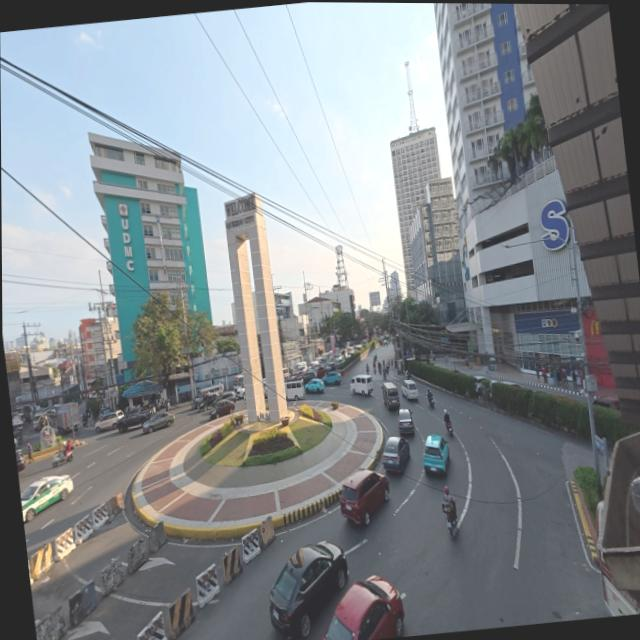Jeepneys: (192, 384, 243, 409)
car: (269, 542, 348, 637), (324, 576, 405, 639), (340, 469, 390, 525), (21, 474, 73, 522), (423, 434, 449, 474), (382, 437, 410, 471), (116, 408, 152, 432), (142, 411, 174, 432), (95, 411, 124, 433), (209, 401, 235, 420), (398, 409, 414, 435), (594, 396, 620, 410), (199, 393, 220, 409), (305, 378, 324, 393), (475, 376, 489, 396), (323, 371, 342, 384), (217, 390, 236, 403), (16, 450, 25, 472), (303, 370, 317, 384), (313, 365, 326, 378), (192, 396, 204, 409), (501, 381, 522, 388), (235, 386, 245, 400), (262, 379, 268, 398), (326, 362, 336, 373), (14, 438, 19, 449)
motorcycle: (443, 502, 458, 537), (52, 448, 73, 466), (444, 414, 453, 436), (446, 422, 453, 437), (82, 415, 88, 428), (428, 398, 434, 409), (366, 365, 370, 374)
vans: (381, 383, 400, 410), (351, 375, 373, 396), (285, 379, 305, 401), (402, 380, 419, 399), (283, 367, 290, 378)
